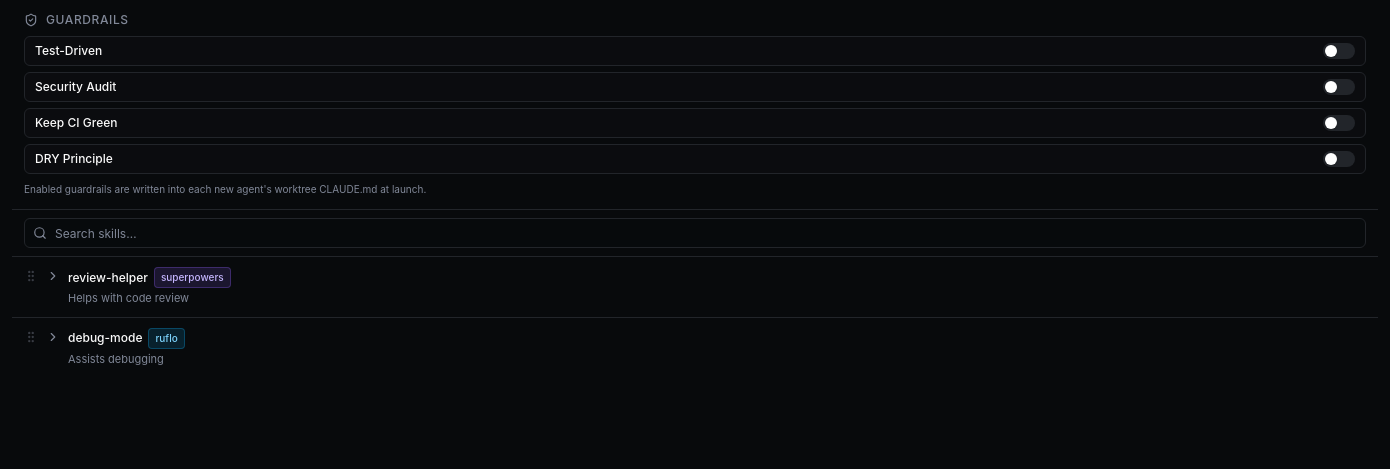
Test: SkillsTab Phase 3 — provider compat badges › shows compat badges for enabled providers when skill row is expanded
This screenshot has width=1390, height=469.
Expected: the text "review-helper" is shown, [68, 270, 148, 286]
Note: Click to expand the review-helper row.
Click the button "review-helper superpowers Helps with code review" at (108, 277), box [12, 257, 1378, 316]
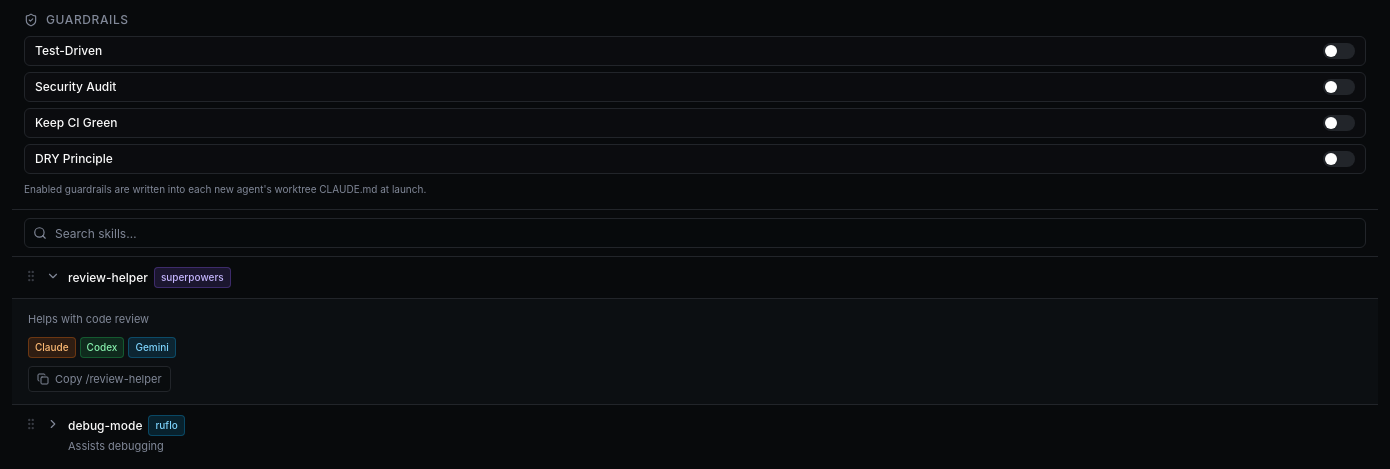
Expected: the element with test id "skill-compat-badges-review-helper" is shown, [28, 337, 176, 358]
Expected: the text "Claude" is shown, [28, 337, 76, 358]
Expected: the text "Codex" is shown, [80, 337, 124, 358]
